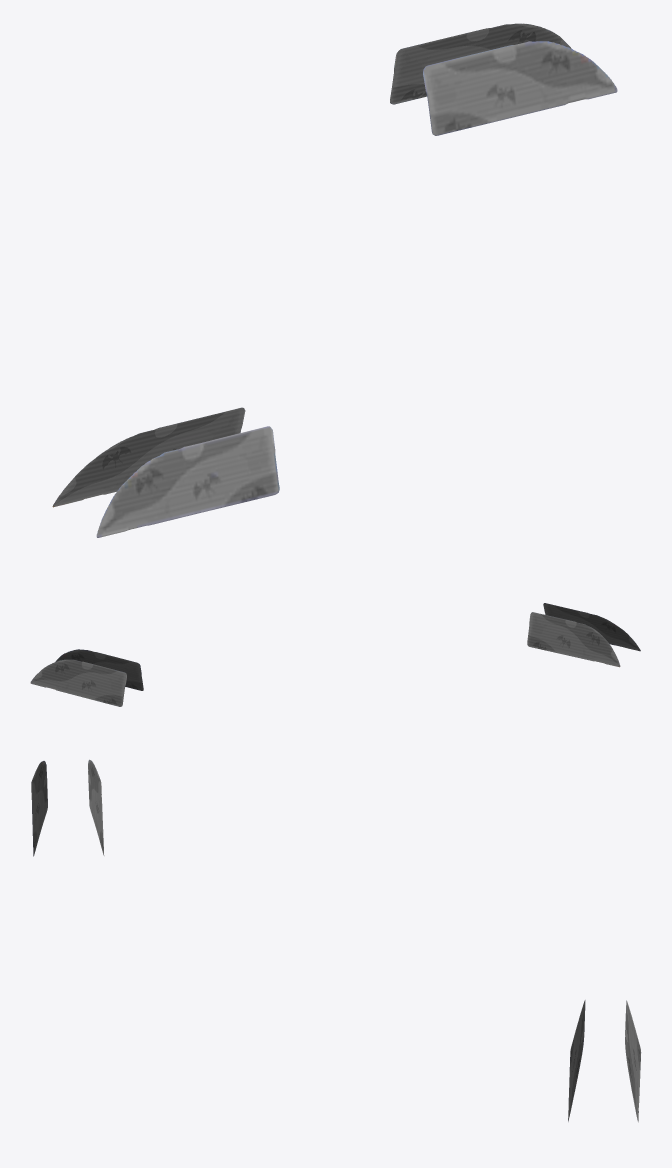
Rendered from pref_sm_4v4beachtech_WSJ_bk_topblock_t01a_lv2.fbx.
3 views of the same model, one above another, from view 1: azimuth 30°, elevation 25°; view 2: azimuth 150°, elevation 25°; view 3: azimuth 270°, elevation 25° (orthographic). The views are drawn at different scales.
Parts seen in each view (by area): view 1: pref_sm_4v4beachtech_WSJ_bk_topblock_t01a_lv2; view 2: pref_sm_4v4beachtech_WSJ_bk_topblock_t01a_lv2; view 3: pref_sm_4v4beachtech_WSJ_bk_topblock_t01a_lv2.
Boxes of the visible parts, x1,y1,x2,y2 form: pref_sm_4v4beachtech_WSJ_bk_topblock_t01a_lv2: (52, 23, 617, 537); pref_sm_4v4beachtech_WSJ_bk_topblock_t01a_lv2: (30, 603, 640, 706); pref_sm_4v4beachtech_WSJ_bk_topblock_t01a_lv2: (31, 759, 641, 1122).
Size of the model in its own units: 15.67 by 1.53 by 11.62.
